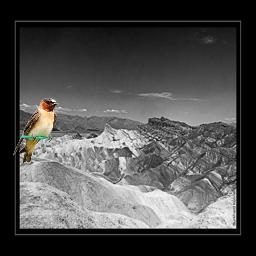Swallow: (13, 98, 59, 163)
